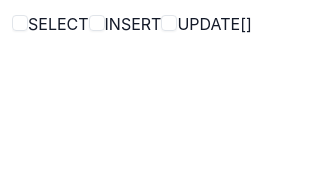
Checkbox (MCQ multi-select interaction) › allows selecting multiple options
What coordinates should you click on to do the following:
click the checkbox next to "SELECT"
I would click on:
 (20, 23)
Its box is [12,15,28,31].
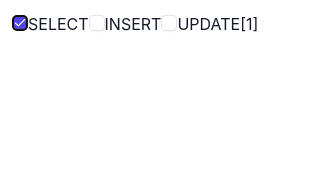
What coordinates should you click on to do the following:
click the checkbox next to "UPDATE"
I would click on:
 (169, 23)
Its box is [161,15,177,31].
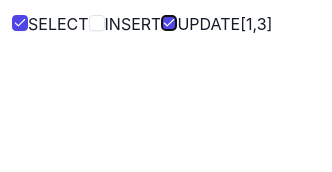
Now the text with test id "selection" reads "[1,3]", box [240,14,272,34]
